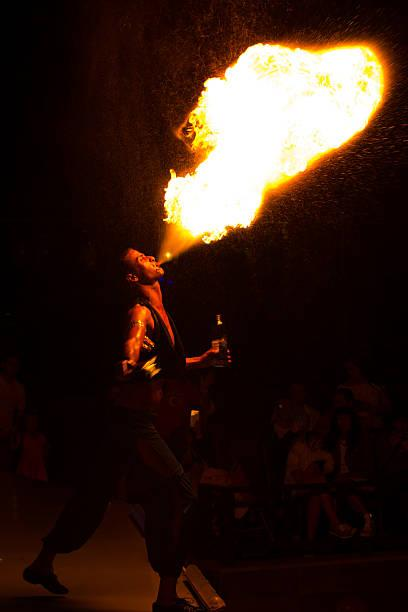Fire: (131, 37, 390, 258)
